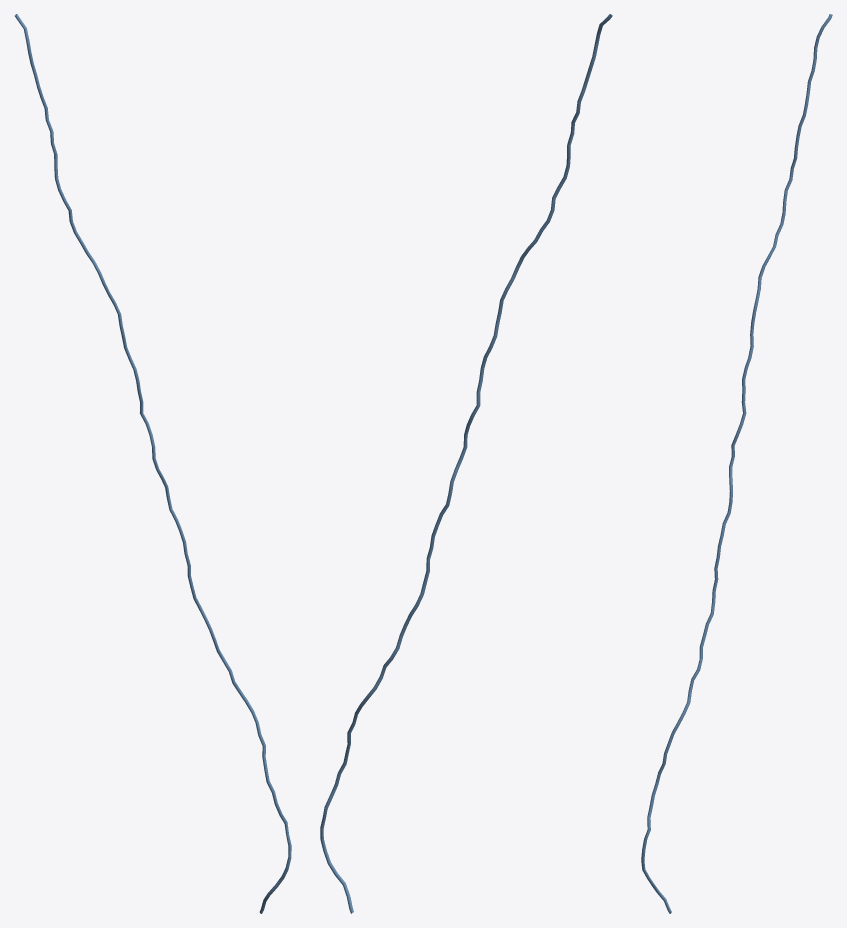
Rendered from sweep287.fbx.
The picture shows the model from 3 angles, left to right: view 1: azimuth 30°, elevation 25°; view 2: azimuth 210°, elevation 25°; view 3: azimuth 270°, elevation 25°; orthographic projection. The views are drawn at different scales.
Visible parts, largest first — view 1: sweep287; view 2: sweep287; view 3: sweep287.
Part boxes in pixels (bbox=[...]): sweep287: bbox=[14, 14, 291, 913]; sweep287: bbox=[320, 14, 612, 913]; sweep287: bbox=[641, 14, 832, 913].
Size of the model in its own units: 1.16 by 5.46 by 1.15.
